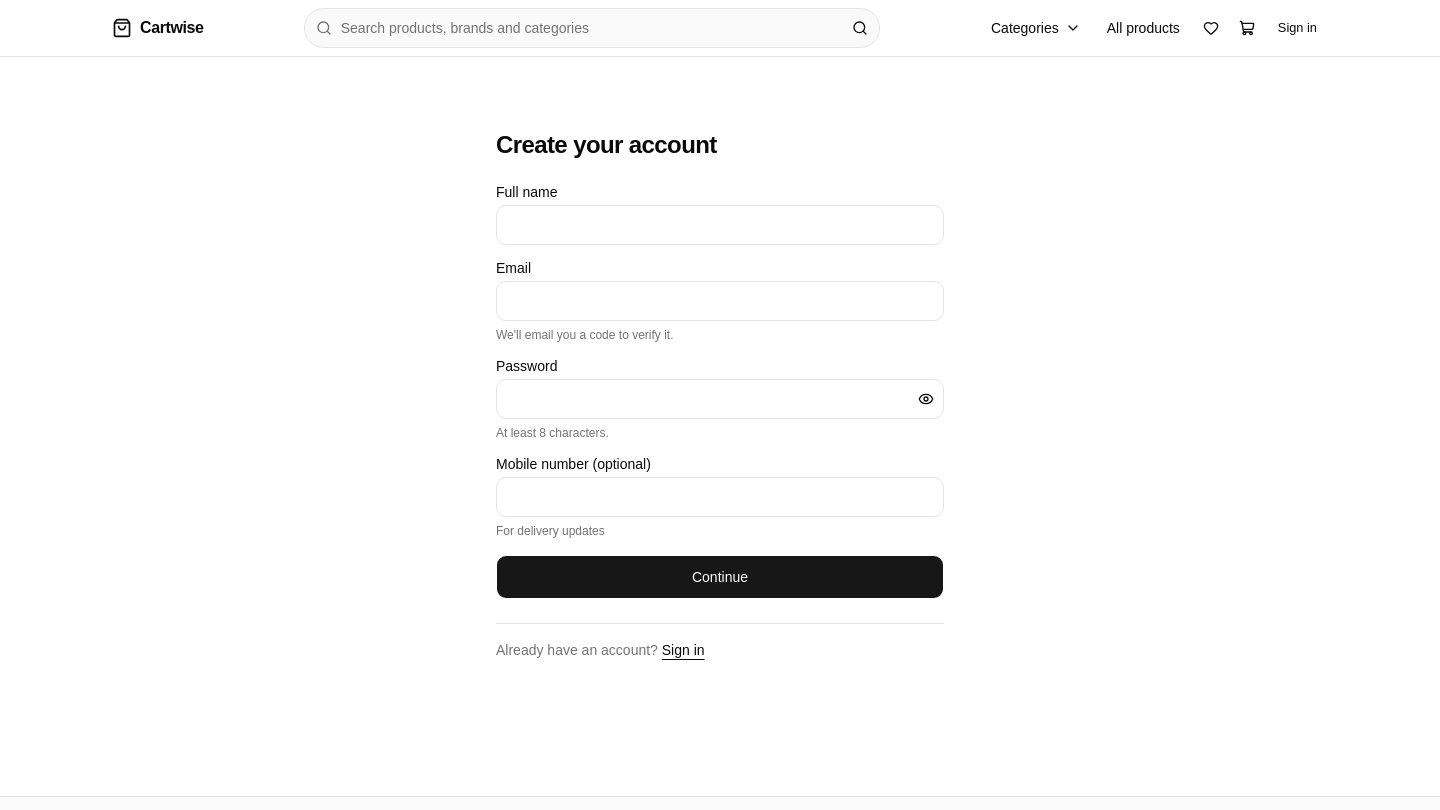
it: sign-up › shows inline errors, focuses the first, and rejects common passwords
This screenshot has width=1440, height=810.
Type "not-an-email" into the field labelled "Email" at (720, 301), box [496, 281, 944, 321]
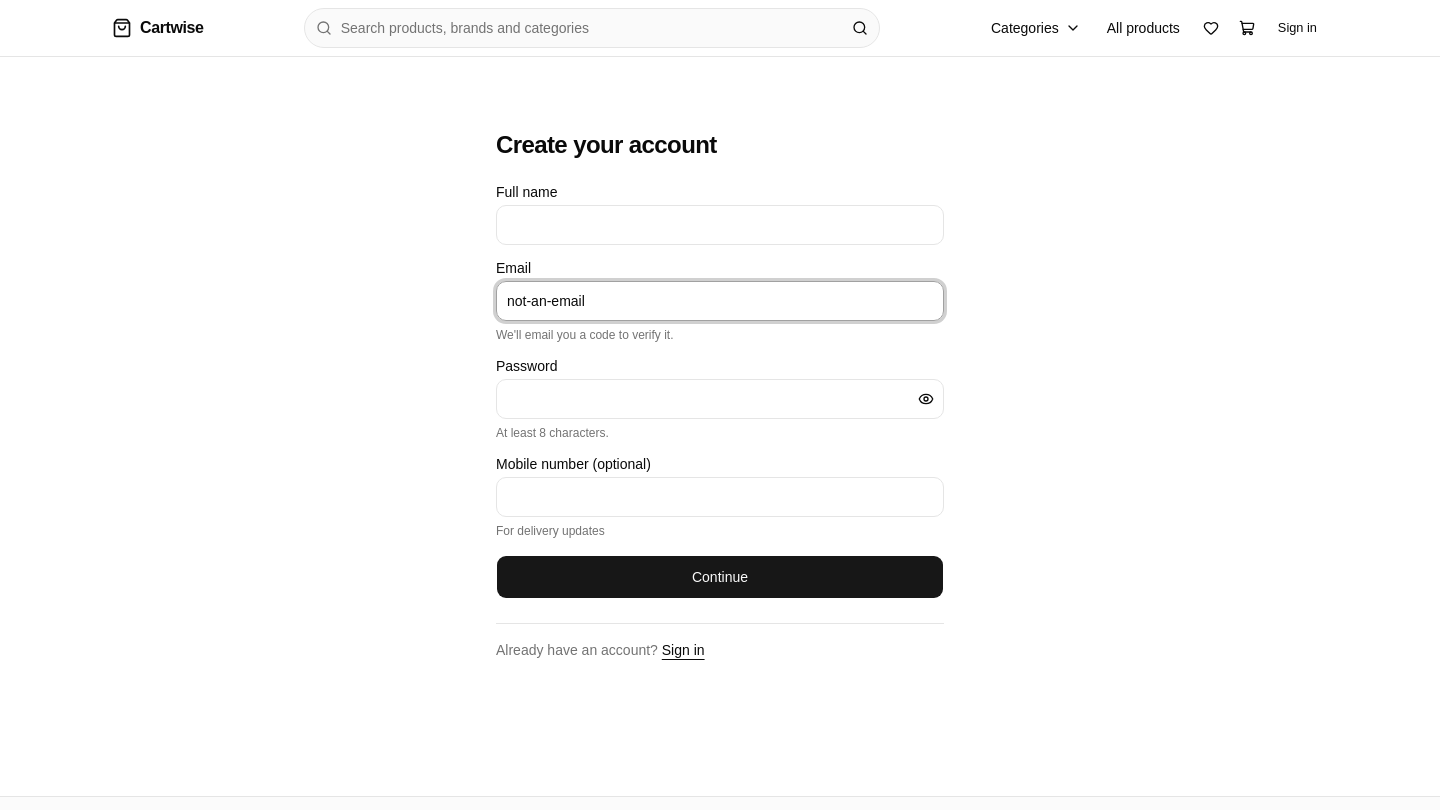
Type "password" into the password field labelled "Password" at (720, 399), box [496, 379, 944, 419]
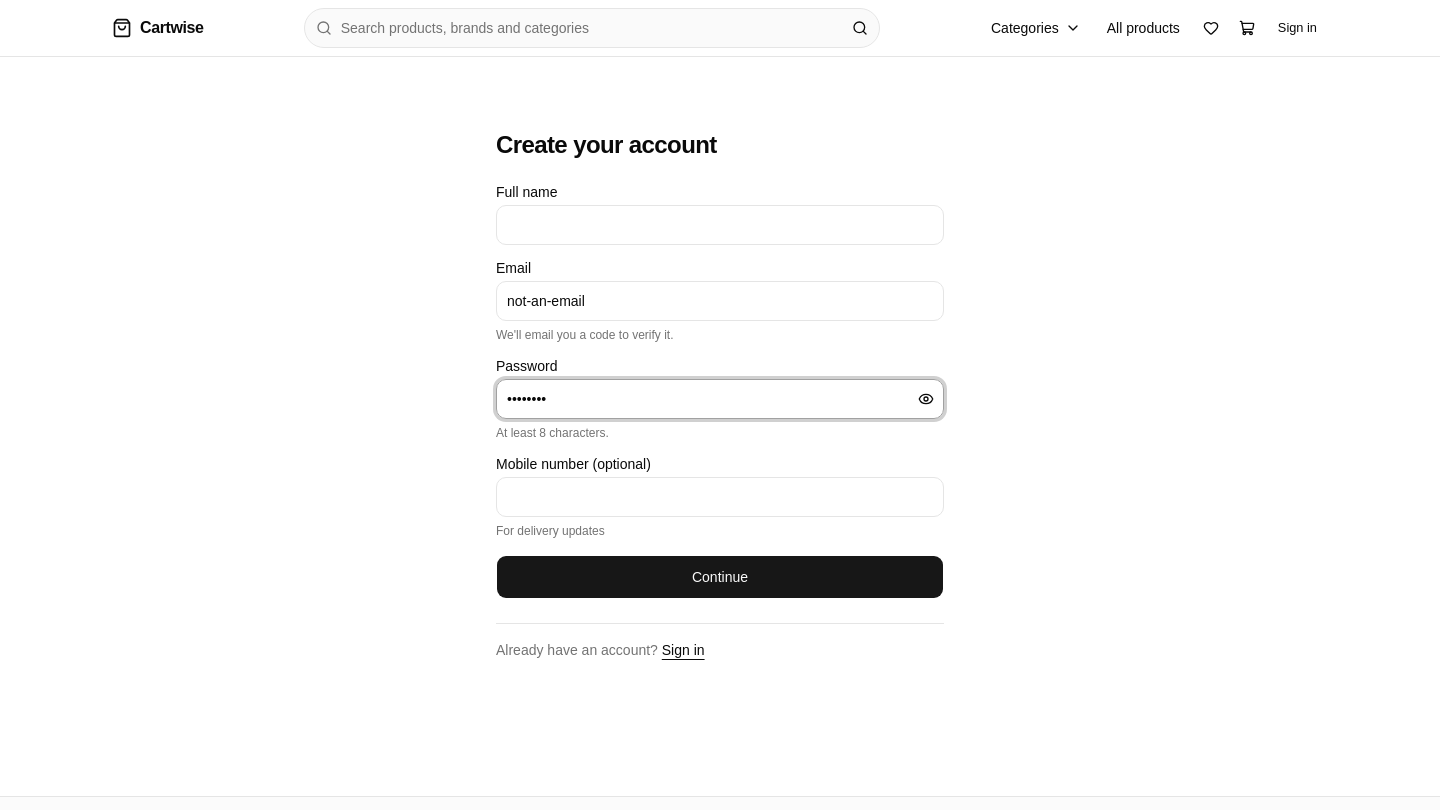
Type "12345" into the field labelled "Mobile number (optional)" at (720, 497), box [496, 477, 944, 517]
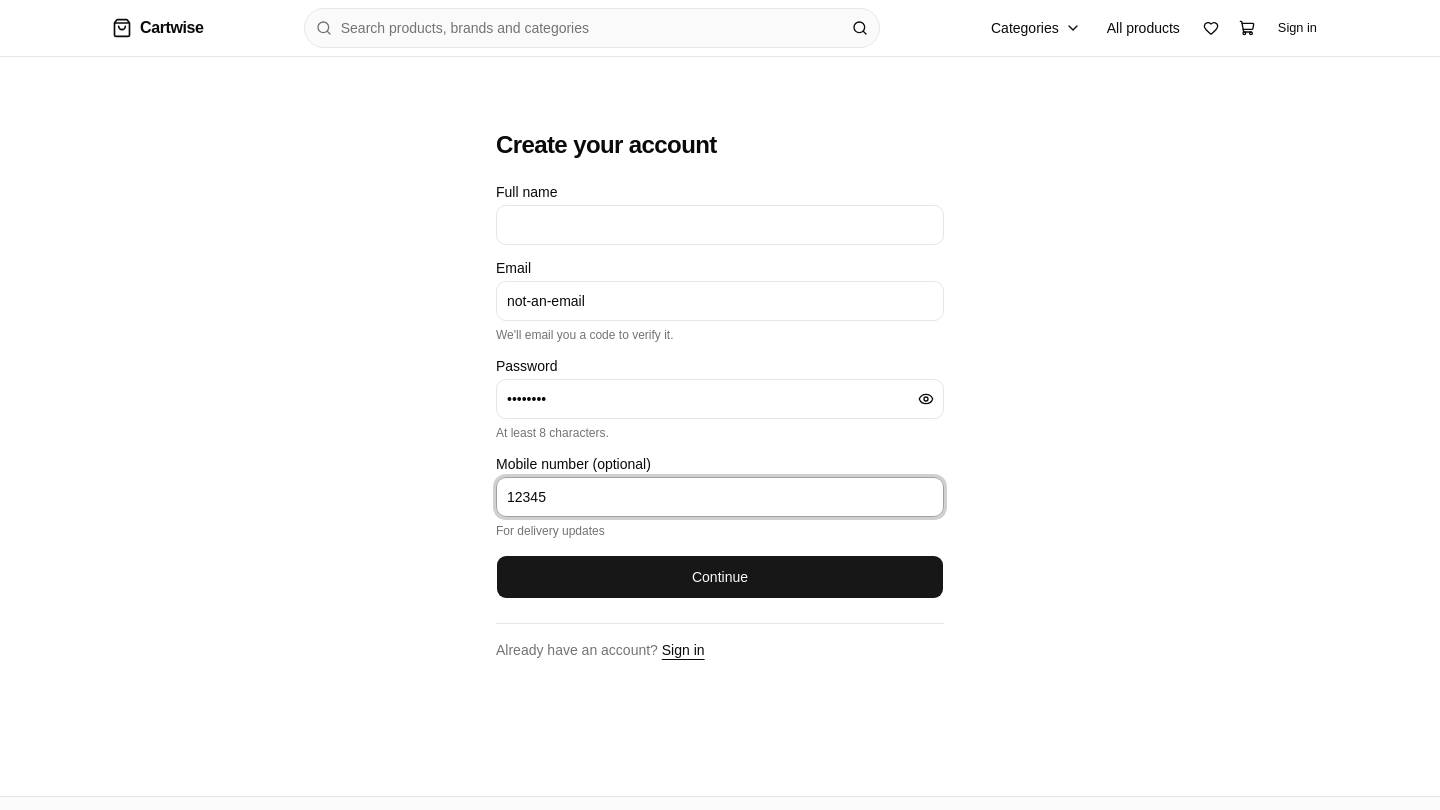
Click the button "Continue" at (720, 577), box [496, 555, 944, 599]
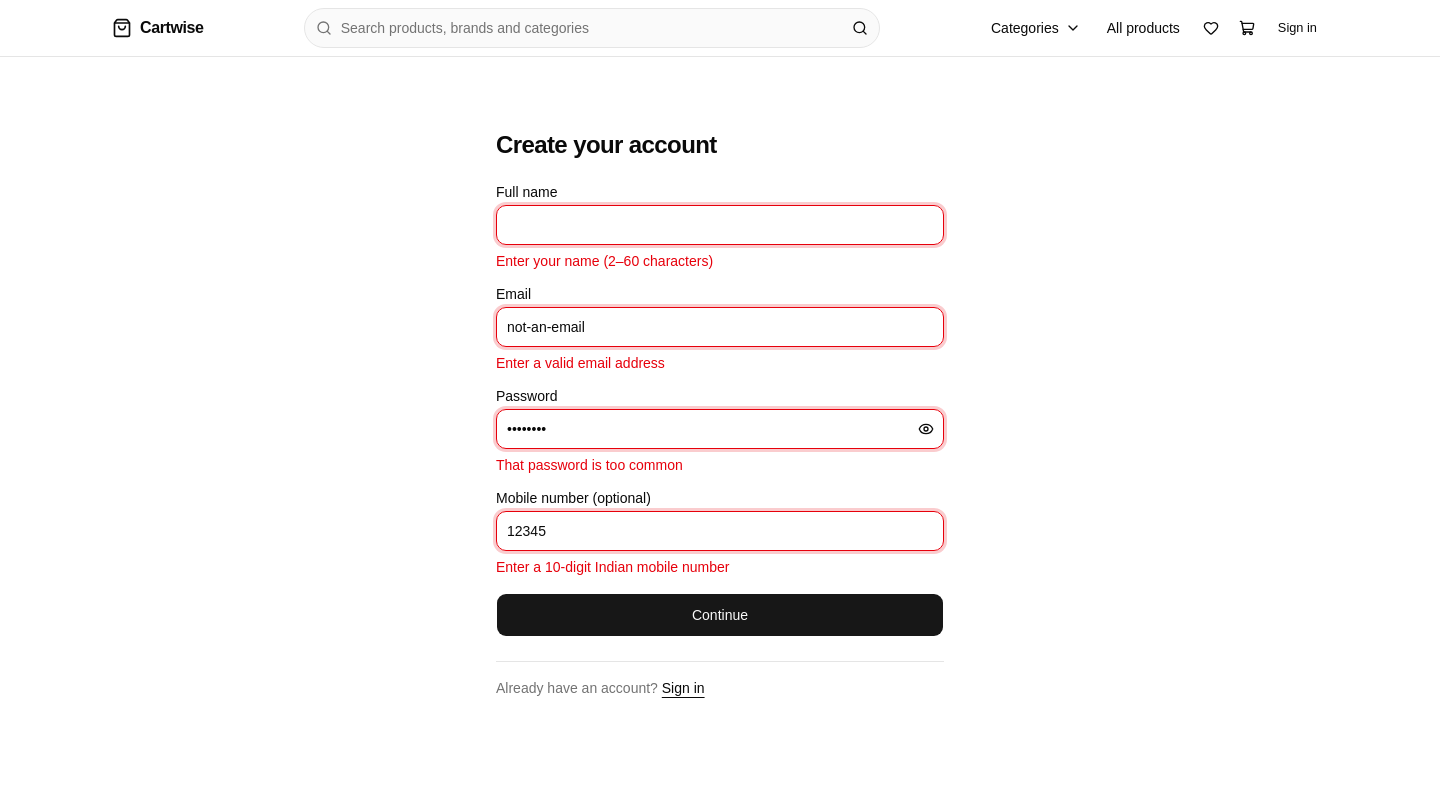
Now the text "Enter your name (2–60 characters)" is shown, box [496, 253, 713, 269]
Now the text "Enter a valid email address" is shown, box [496, 355, 665, 371]
Now the text "Enter a 10-digit Indian mobile number" is shown, box [496, 559, 730, 575]
